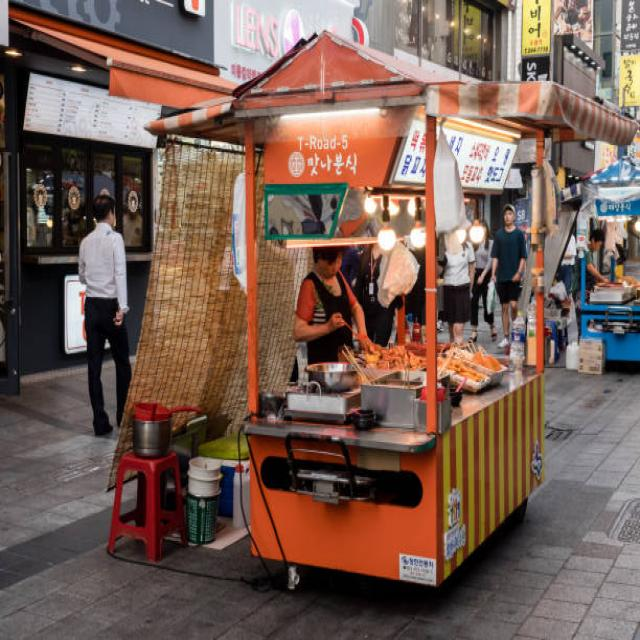Emperan: (84, 19, 640, 640)
